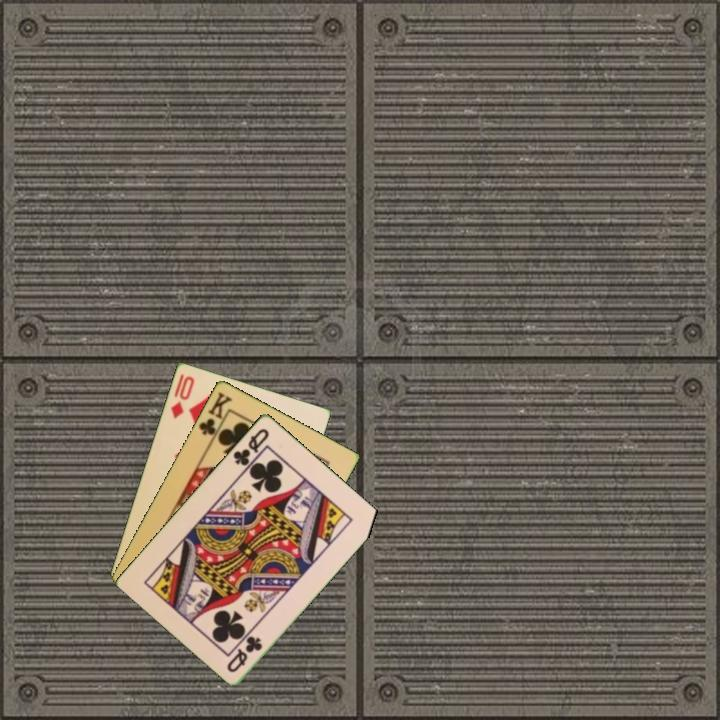10d: (167, 372, 197, 421)
Kc: (195, 388, 235, 444)
Qc: (229, 424, 272, 468), (223, 632, 265, 675)
